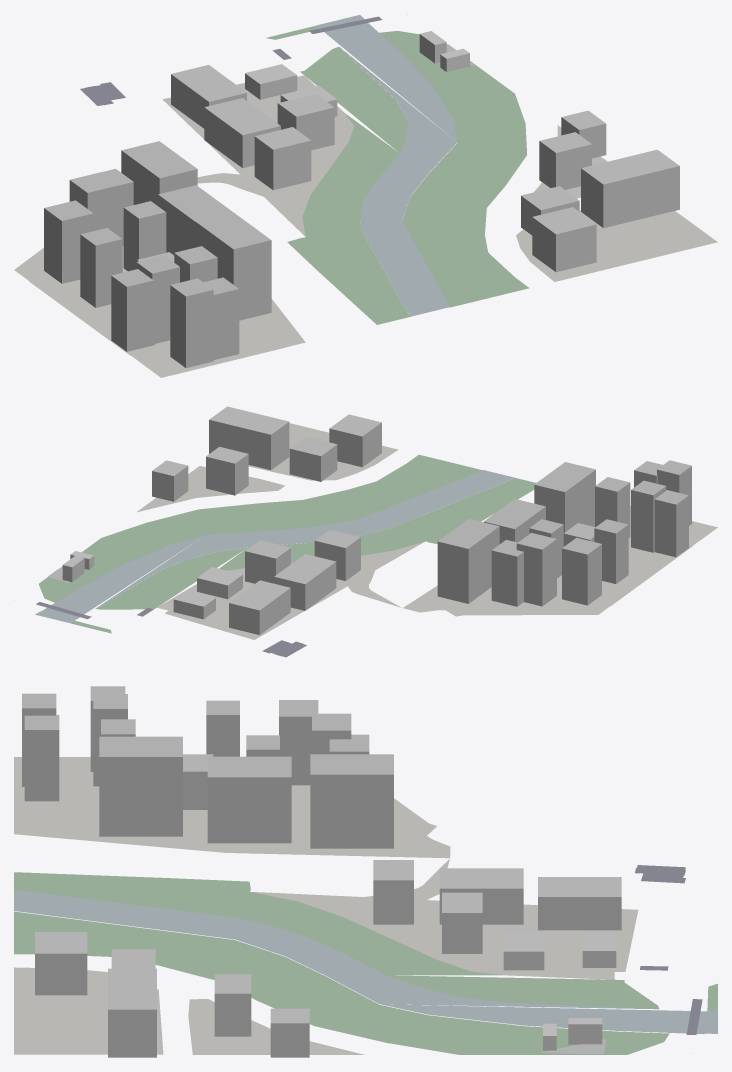
Rendered from 103_105_mid.glb.
3 views of the same model, one above another, from view 1: azimuth 30°, elevation 25°; view 2: azimuth 150°, elevation 25°; view 3: azimuth 270°, elevation 25° (orthographic). The views are drawn at different scales.
Size of the model in its own units: 505 by 62.91 by 500.
